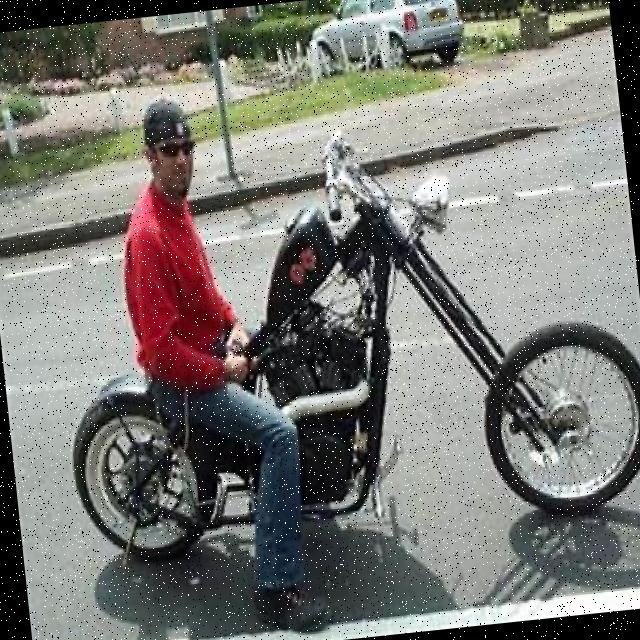No helmet: (132, 91, 218, 202)
